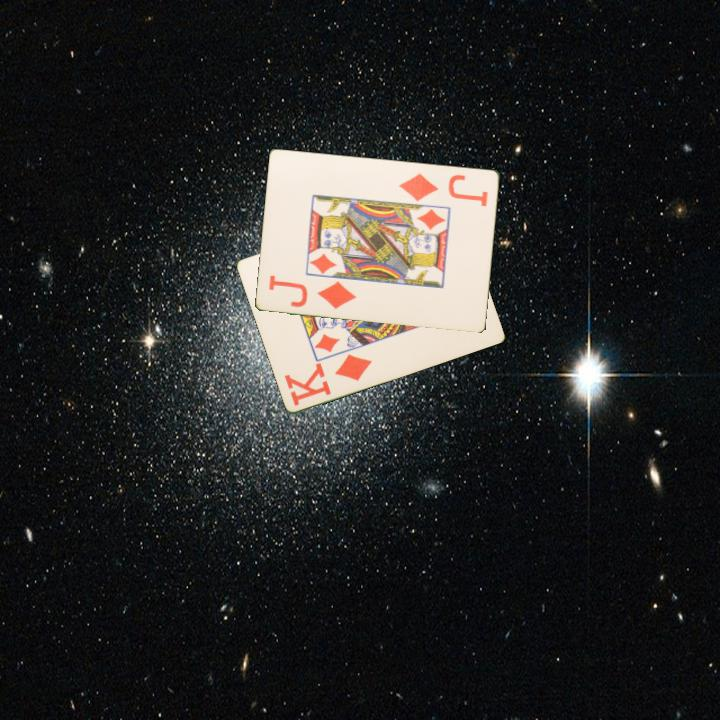Jd: (266, 271, 360, 312), (396, 169, 491, 209)
Kd: (281, 350, 375, 409)
